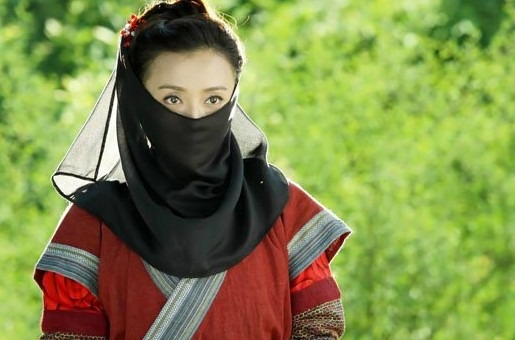face_mask: (140, 50, 235, 164)
